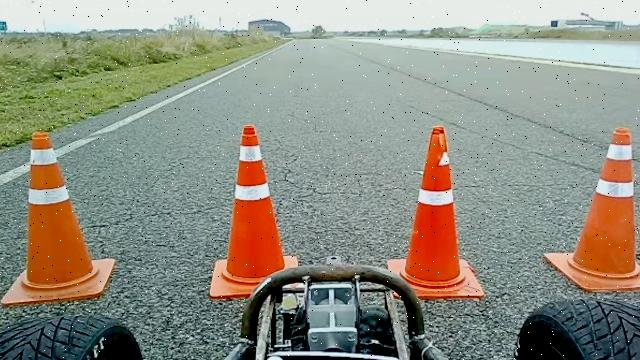red cone: (0, 130, 115, 306), (387, 125, 485, 300), (540, 125, 640, 293), (209, 123, 299, 300)
